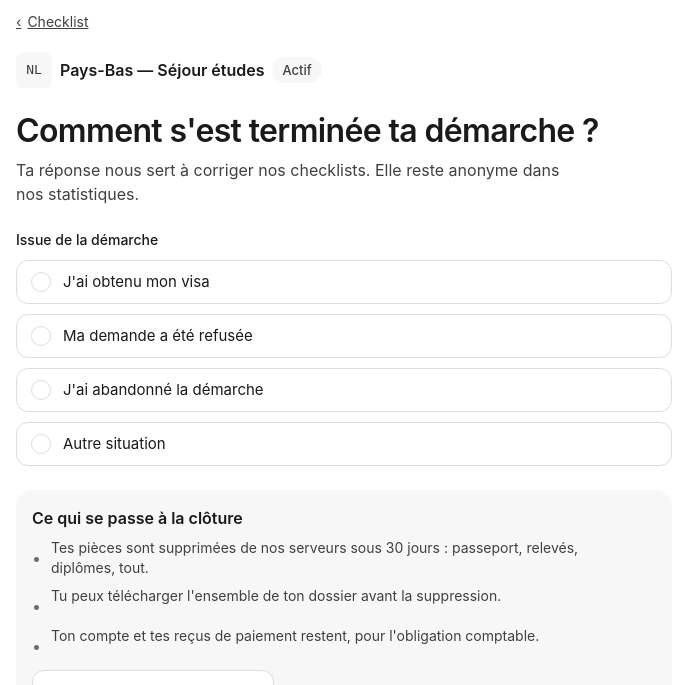
C-11 — Clôture › pose la question du détail seulement là où elle apprend quelque chose
Click the radio button labelled "J'ai obtenu mon visa" at [136, 282], box [16,260,672,304]
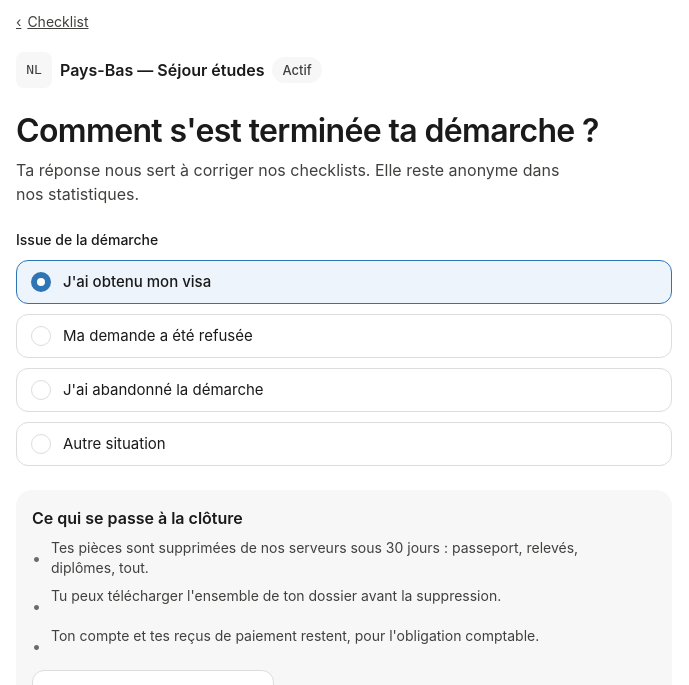
Click the radio button labelled "Ma demande a été refusée" at [158, 336], box [16,314,672,358]
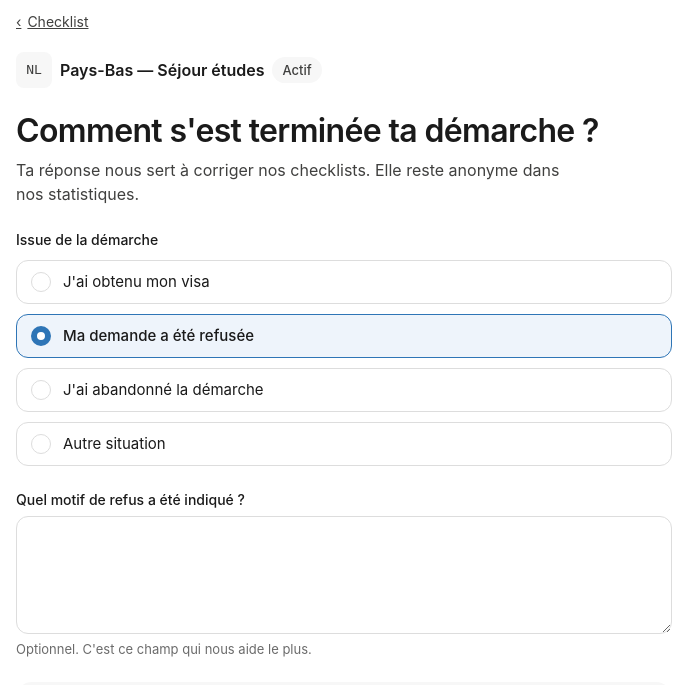
Expected: the text box labelled "Quel motif de refus a été indiqué ?" is shown, [16,516,672,634]
